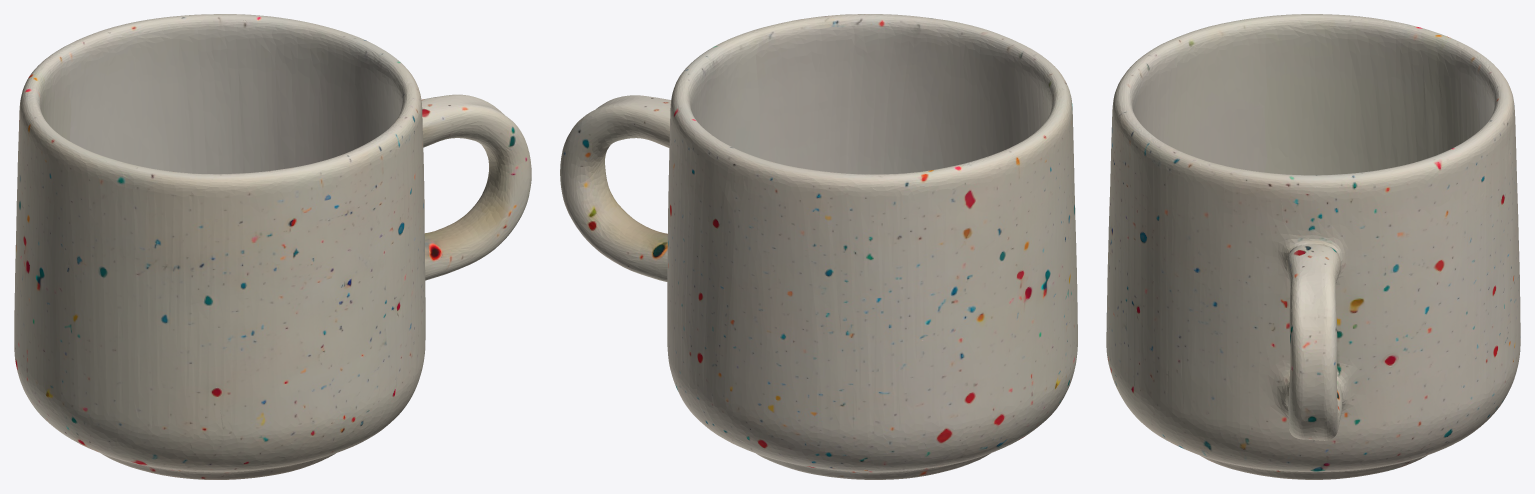
The model's file is e2e_cup.glb.
The picture shows the model from 3 angles, left to right: view 1: azimuth 30°, elevation 25°; view 2: azimuth 150°, elevation 25°; view 3: azimuth 270°, elevation 25°; orthographic projection.
Visible parts, largest first — view 1: fd6b5bc7-0b68-42be-a53e-d53d95d1d0b1_texturing.obj; view 2: fd6b5bc7-0b68-42be-a53e-d53d95d1d0b1_texturing.obj; view 3: fd6b5bc7-0b68-42be-a53e-d53d95d1d0b1_texturing.obj.
Boxes of the visible parts, x1,y1,x2,y2 form: fd6b5bc7-0b68-42be-a53e-d53d95d1d0b1_texturing.obj: (14, 14, 531, 479); fd6b5bc7-0b68-42be-a53e-d53d95d1d0b1_texturing.obj: (560, 14, 1077, 479); fd6b5bc7-0b68-42be-a53e-d53d95d1d0b1_texturing.obj: (1106, 14, 1520, 479).
Size of the model in its own units: 1.99 by 1.29 by 1.48.
Materials: 1 (1 with a texture image).
